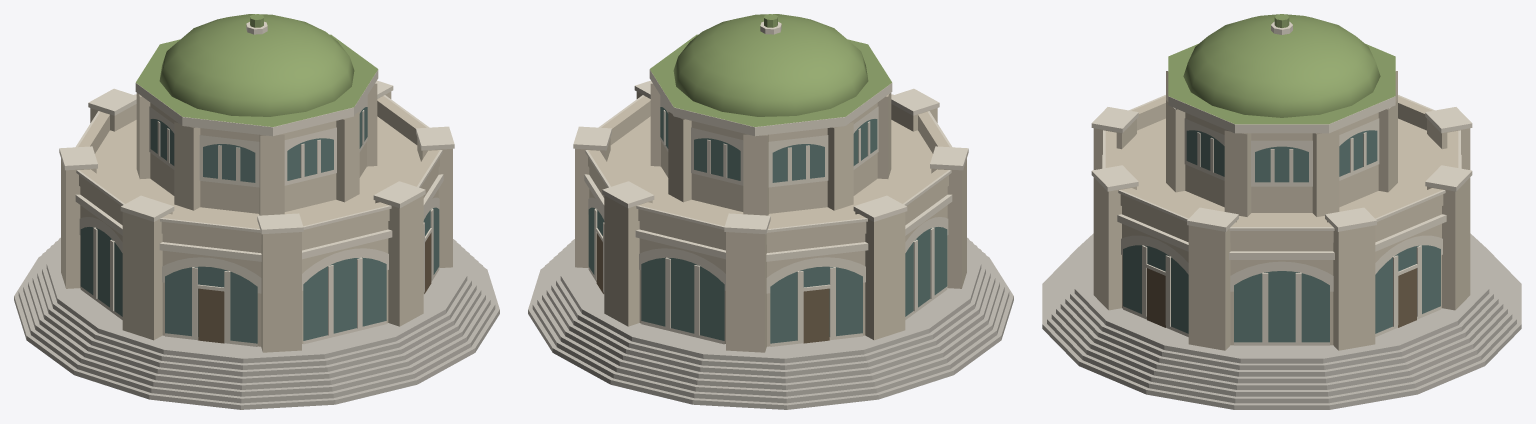
Rendered from pdx-vista-house.glb.
The picture shows the model from 3 angles, left to right: view 1: azimuth 30°, elevation 25°; view 2: azimuth 150°, elevation 25°; view 3: azimuth 270°, elevation 25°; orthographic projection.
Visible parts, largest first — view 1: Vista House; view 2: Vista House; view 3: Vista House.
Part boxes in pixels (box(x1,y1,x2,y2)): Vista House: box(14, 14, 499, 409); Vista House: box(528, 14, 1013, 409); Vista House: box(1042, 14, 1521, 409).
Size of the model in its own units: 19.42 by 13.03 by 19.42.
